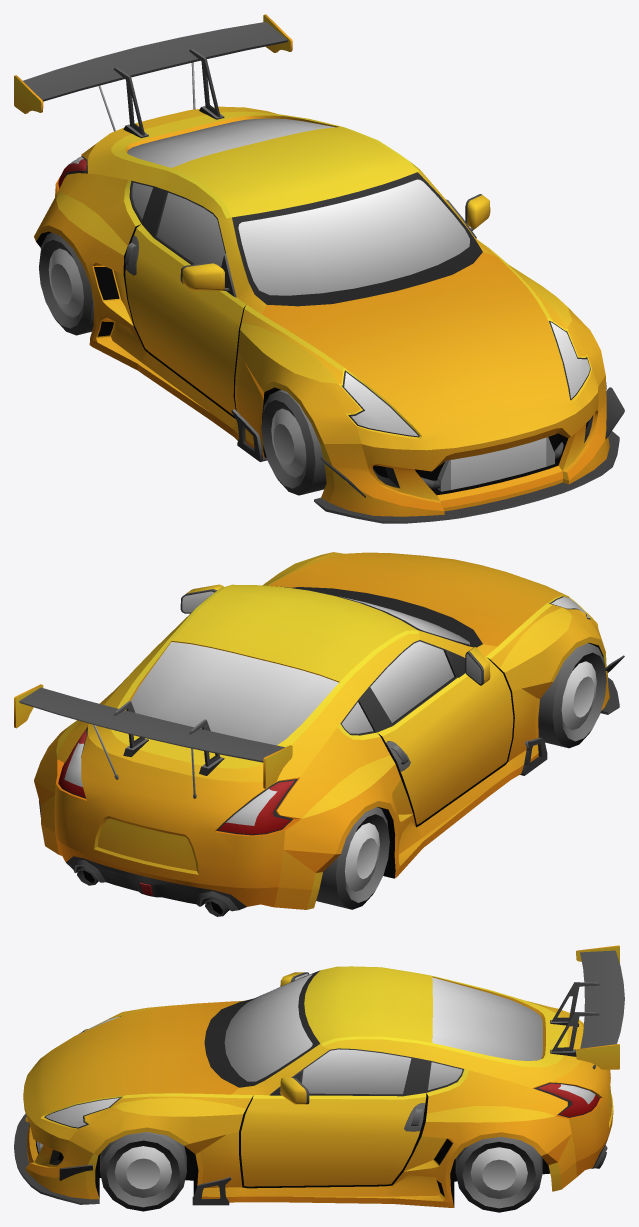
The model's file is Nissan 370Z Rocket Bunny Pandem (2012).fbx.
3 views of the same model, one above another, from view 1: azimuth 30°, elevation 25°; view 2: azimuth 150°, elevation 25°; view 3: azimuth 270°, elevation 25° (orthographic). The views are drawn at different scales.
Parts seen in each view (by area): view 1: Body, FRW, RRW; view 2: Body, FRW, RRW; view 3: Body, FLW, RLW.
Part boxes in pixels (left/top/right/bottom): Body: left=14, top=14, right=624, bottom=523; FRW: left=261, top=390, right=326, bottom=495; RRW: left=39, top=232, right=93, bottom=335; Body: left=14, top=552, right=624, bottom=916; FRW: left=538, top=643, right=606, bottom=748; RRW: left=316, top=807, right=389, bottom=909; Body: left=14, top=945, right=624, bottom=1207; FLW: left=100, top=1132, right=186, bottom=1211; RLW: left=455, top=1136, right=542, bottom=1212.
Size of the model in its own units: 215 by 132 by 460.
1 material, 1 textured.
